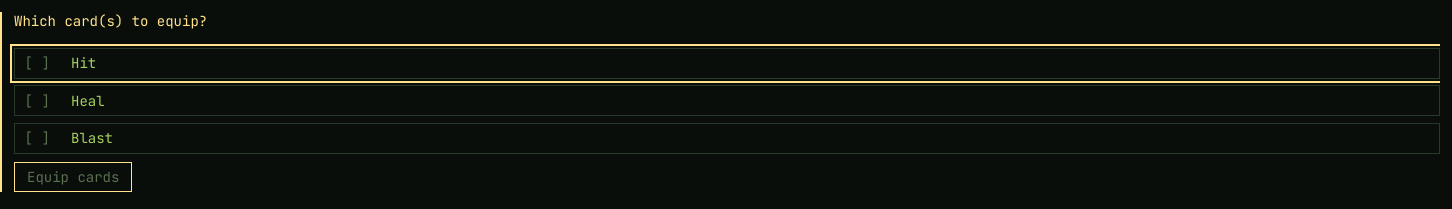
Test: InlineChoices › multi-select mode › shows a live order summary as cards are selected
Step 1. Click the button "[ ] Blast" → (92, 138), box [14,123,1440,154]
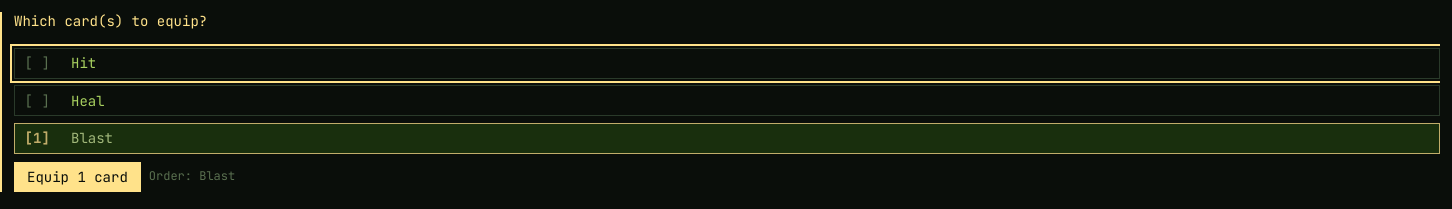
Step 2. Click the button "[ ] Hit" → (37, 63), box [14,48,1440,79]
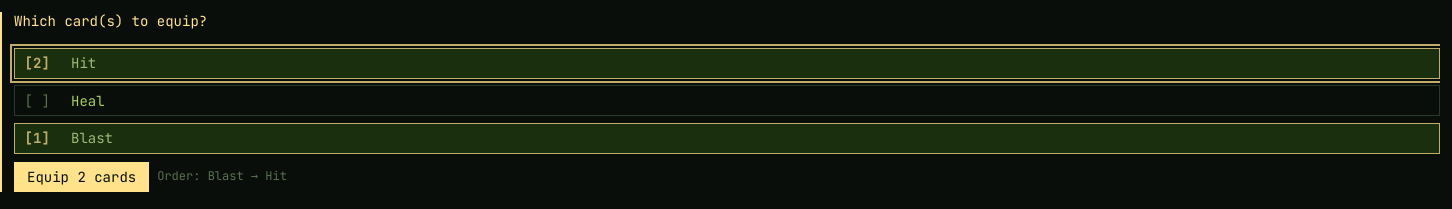
Expected: the text "Order: Blast → Hit" is shown, [157,168,287,185]
